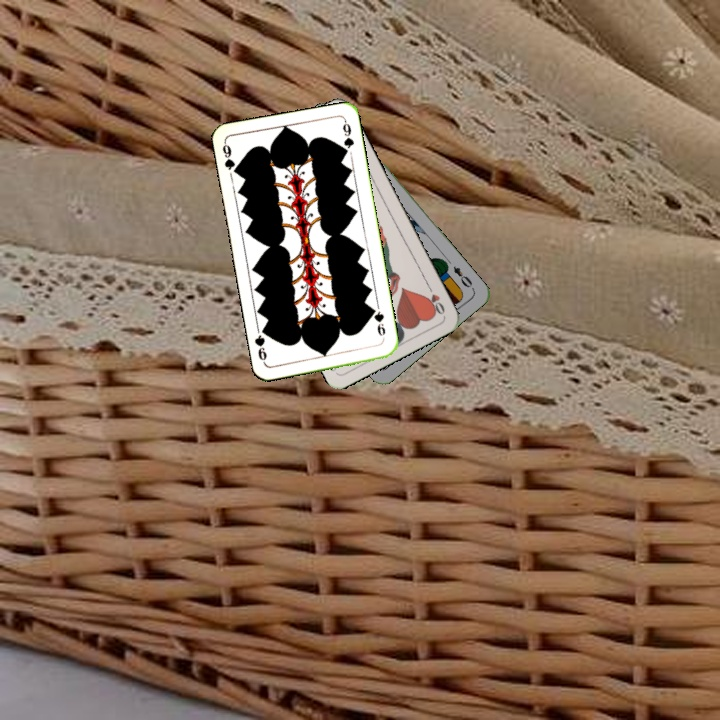EO: (449, 262, 477, 292)
G9: (218, 139, 242, 178), (368, 304, 388, 338)
HO: (423, 280, 447, 317)
